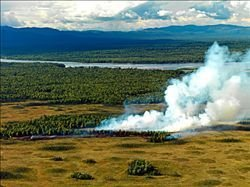yanwu: (95, 39, 250, 139)
